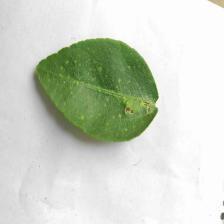canker: (119, 86, 156, 124)
